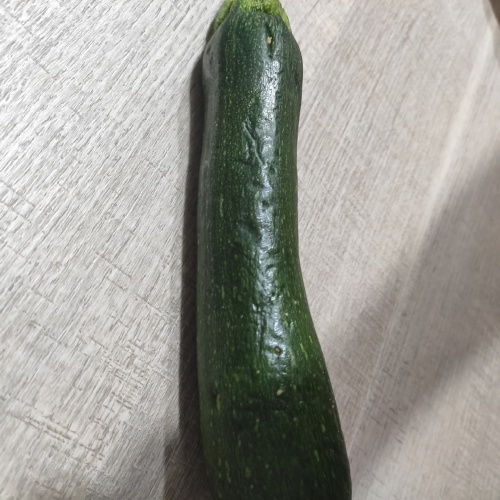zucchine: (209, 15, 332, 490)
